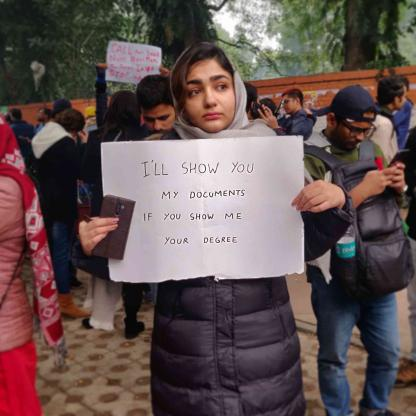BANNER: (100, 125, 307, 286)
